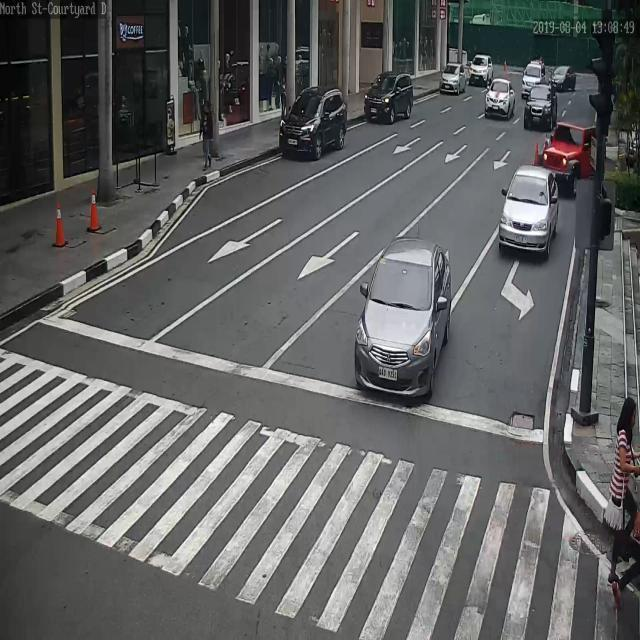car: (353, 238, 453, 400), (498, 165, 558, 253), (279, 88, 348, 162), (364, 74, 414, 127), (524, 85, 558, 130), (485, 77, 517, 118), (520, 59, 548, 99), (441, 63, 469, 96), (469, 55, 494, 88), (548, 65, 576, 92)
tricycle: (536, 123, 605, 193)
